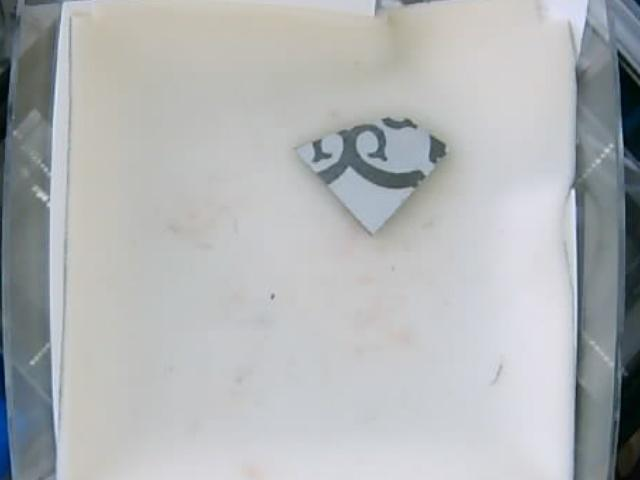China: (295, 111, 448, 234)
